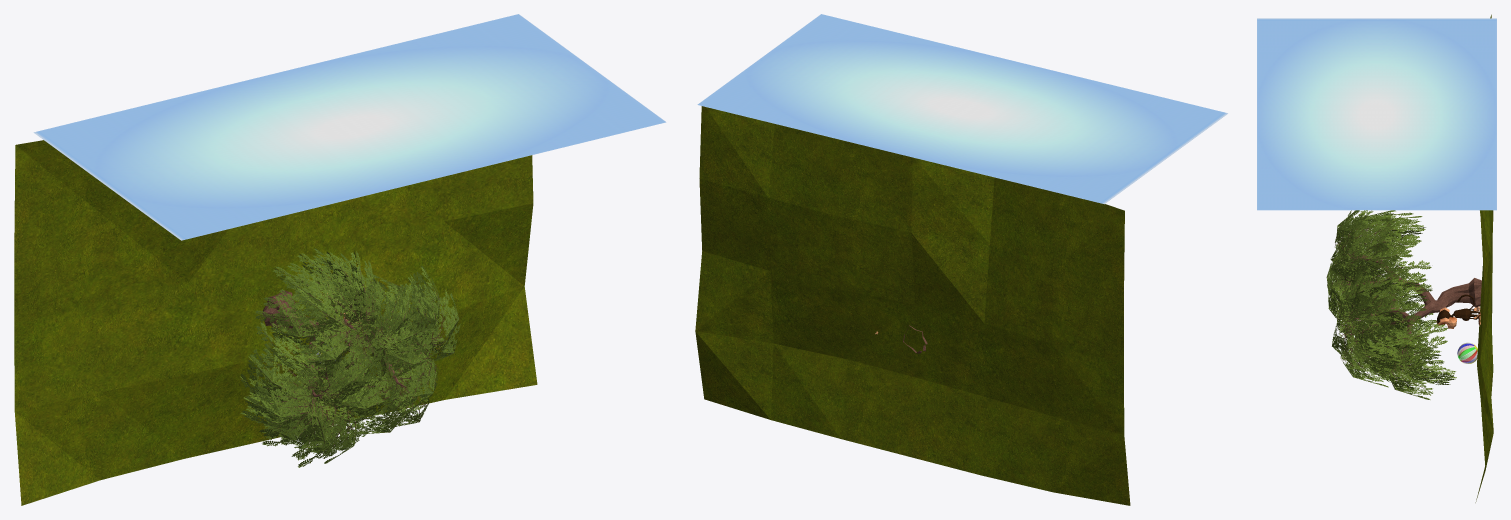
The picture shows the model from 3 angles, left to right: view 1: azimuth 30°, elevation 25°; view 2: azimuth 150°, elevation 25°; view 3: azimuth 270°, elevation 25°; orthographic projection. The views are drawn at different scales.
Visible parts, largest first — view 1: grass_ground, background, leaf, tree; view 2: grass_ground, background; view 3: background, leaf, grass_ground, tree, momo, balloon.
Boxes of the visible parts, box(x1,y1,x2,y2) form: grass_ground: box(14, 140, 537, 505); background: box(33, 14, 666, 240); leaf: box(240, 248, 460, 467); tree: box(262, 290, 432, 406); grass_ground: box(695, 106, 1130, 505); background: box(697, 14, 1227, 204); background: box(1257, 18, 1496, 210); leaf: box(1326, 210, 1456, 399); grass_ground: box(1475, 14, 1493, 502); tree: box(1343, 255, 1481, 352); momo: box(1436, 294, 1480, 328); balloon: box(1457, 342, 1477, 363).
Bounding box in the file's own units: 9.66 × 6.53 × 4.84.
